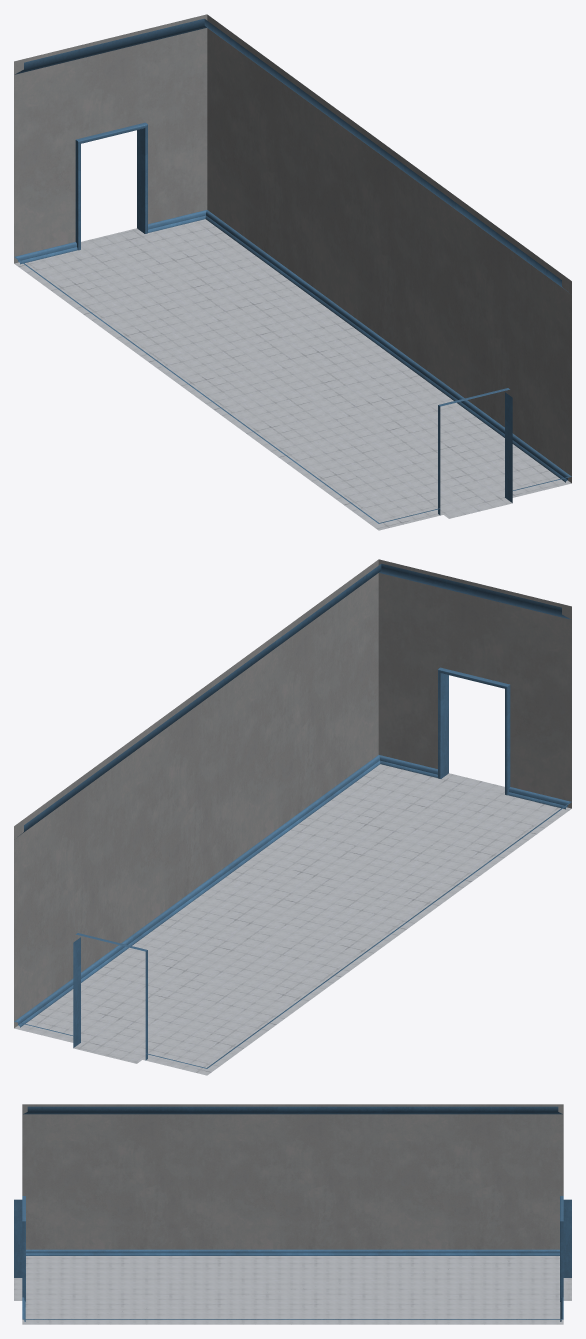
Rendered from PZ_room2.glb.
3 views of the same model, one above another, from view 1: azimuth 30°, elevation 25°; view 2: azimuth 150°, elevation 25°; view 3: azimuth 270°, elevation 25° (orthographic). The views are drawn at different scales.
Parts seen in each view (by area): view 1: PZ_HallwayI; view 2: PZ_HallwayI; view 3: PZ_HallwayI.
Boxes of the visible parts, bbox=[...] form: PZ_HallwayI: bbox=[14, 14, 571, 530]; PZ_HallwayI: bbox=[14, 559, 571, 1075]; PZ_HallwayI: bbox=[14, 1104, 571, 1324].
Bounding box in the file's own units: 3 × 3 × 10.11.
3 materials, 3 textured.
